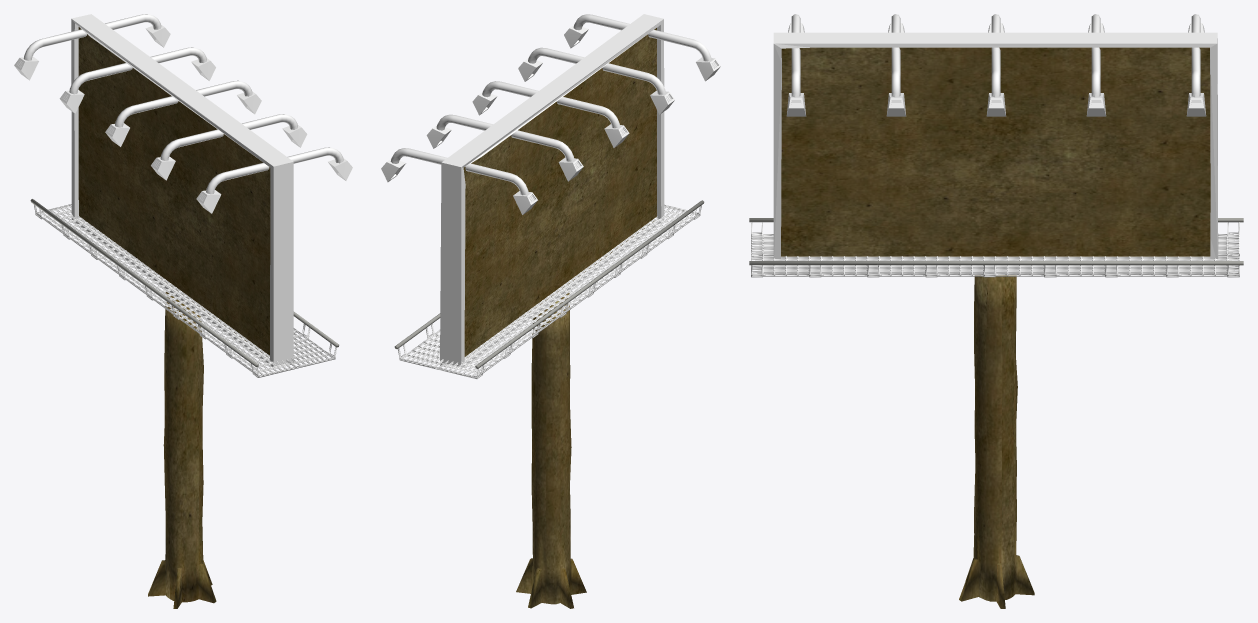
3 renders of one model, left to right at view 1: azimuth 30°, elevation 25°; view 2: azimuth 150°, elevation 25°; view 3: azimuth 270°, elevation 25°, orthographic. The views are drawn at different scales.
Visible parts, largest first — view 1: Ad.003, pole.001, Ad.002, Lights.001, grid.001, grid.003; view 2: Ad.003, pole.001, Ad.002, Lights.001, grid.001, grid.003; view 3: Ad.003, pole.001, Ad.002, grid.001, Lights.001, grid.005.
Boxes of the visible parts, <box> form: Ad.003: <box>78,27,270,357</box>; pole.001: <box>148,292,216,608</box>; Ad.002: <box>71,14,293,366</box>; Lights.001: <box>14,14,352,213</box>; grid.001: <box>34,204,336,377</box>; grid.003: <box>30,199,258,366</box>; Ad.003: <box>463,28,656,356</box>; pole.001: <box>516,293,586,608</box>; Ad.002: <box>440,14,664,368</box>; Lights.001: <box>381,14,720,214</box>; grid.001: <box>398,204,701,378</box>; grid.003: <box>475,200,704,368</box>; Ad.003: <box>781,47,1210,256</box>; pole.001: <box>959,275,1034,608</box>; Ad.002: <box>773,32,1218,258</box>; grid.001: <box>751,222,1239,277</box>; Lights.001: <box>786,14,1206,116</box>; grid.005: <box>749,261,1243,265</box>.
Size of the model in its own units: 3.87 by 12.48 by 10.09.
Materials: 6 (3 with a texture image).
